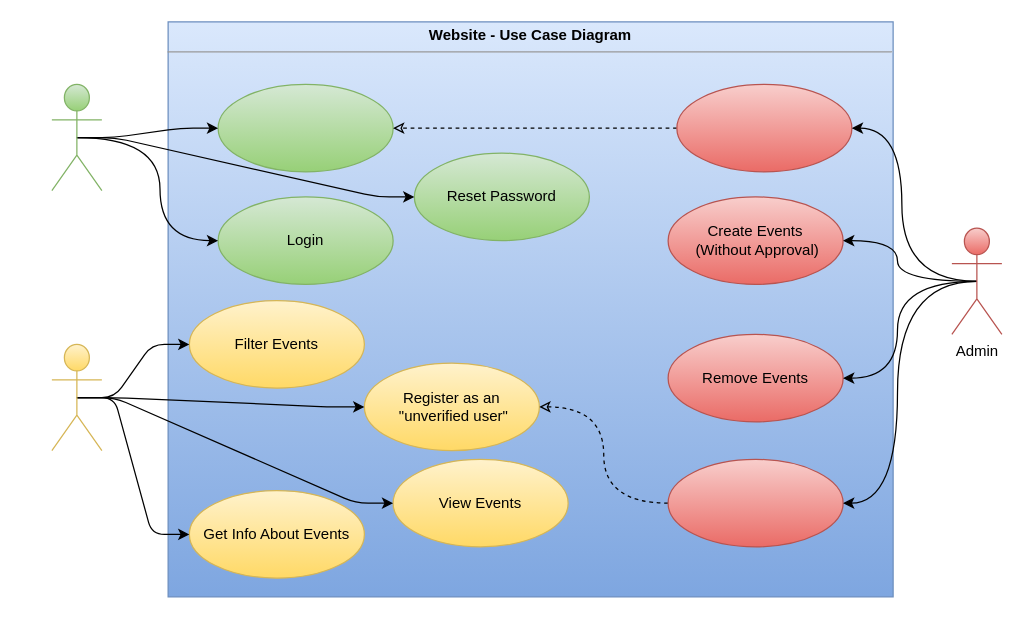
Some shapes in this 1024 by 619 pixel diagram are drawn without their labels. Here are the shapes that lost their labels. From the top down, the centre of each, then its label:
the point at 76,137: User
the point at 305,127: Create Event (Pending Approval)
the point at 764,127: Approve Events
the point at 76,397: Guest/Unverified User
the point at 755,502: Change User's Privileges
